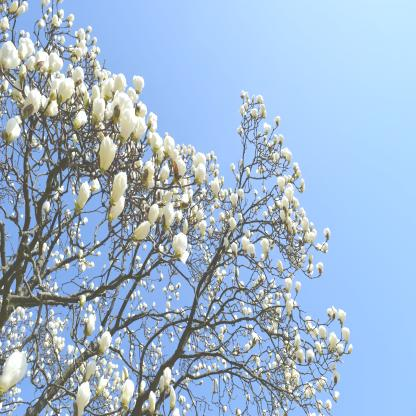Mokuren: (0, 0, 355, 416)
